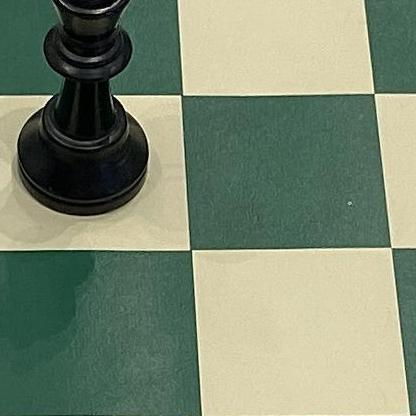black-king: (14, 0, 154, 218)
